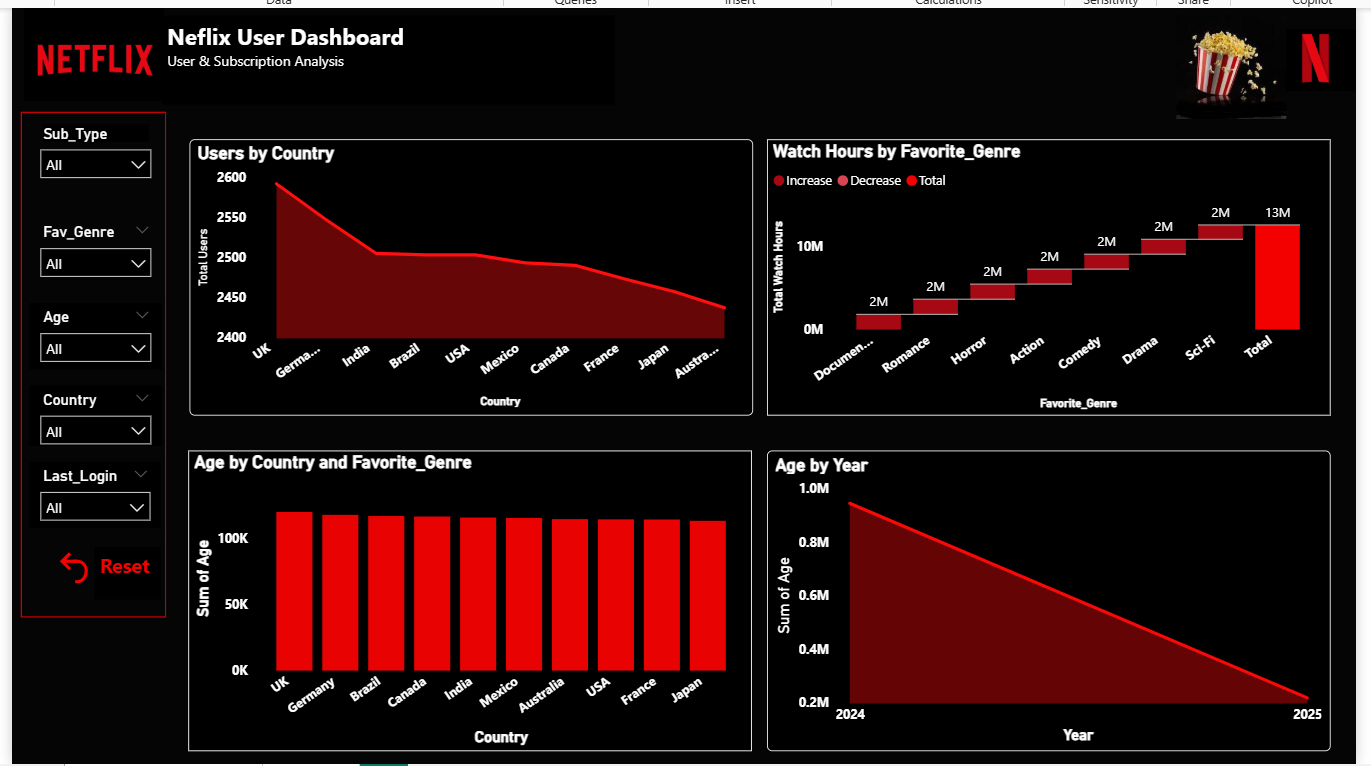

The dashboard page shown, as its layout file describes it:
{"tool":"powerbi","page":{"name":"Page 2","canvas":[1280,720],"ordinal":1},"visuals":[{"type":"waterfallChart","title":" Watch Hours by Favorite_Genre","fields":{"Y":["Subscription.Total Watch Hours"],"Category":["netflix_users.Favorite_Genre"]},"box":[719,124.9,536.5,263.5],"z":0},{"type":"stackedAreaChart","title":"Users by Country","fields":{"Category":["netflix_users.Country"],"Y":["Subscription.Total Users"]},"box":[168.8,124.9,536.5,263.5],"z":1000},{"type":"image","box":[2.7,0,150.9,89.2],"z":2000},{"type":"textbox","box":[142.7,6.9,430.9,85.1],"z":3000},{"type":"image","box":[1200.7,0,79.6,98.8],"z":4000},{"type":"image","box":[1104.6,6.9,112.5,98.8],"z":5000},{"type":"shape","box":[8.2,98.8,138.6,481.6],"z":6000},{"type":"actionButton","box":[39.8,513.2,100.2,39.8],"z":7000},{"type":"textbox","box":[78.2,513.2,63.1,50.8],"z":8000},{"type":"slicer","fields":{"Values":["Subscription.Subscription_Type"]},"box":[16.5,105.7,126.2,63.1],"z":9000},{"type":"slicer","fields":{"Values":["netflix_users.Favorite_Genre"]},"box":[16.5,200.3,126.2,63.1],"z":10000},{"type":"slicer","fields":{"Values":["netflix_users.Age"]},"box":[16.5,281.3,126.2,63.1],"z":11000},{"type":"slicer","fields":{"Values":["netflix_users.Country"]},"box":[16.5,359.5,126.2,57.6],"z":12000},{"type":"slicer","fields":{"Values":["netflix_users.Last_Login"]},"box":[16.5,432.2,124.9,63.1],"z":13000},{"type":"areaChart","title":" Age by Year","fields":{"Category":["netflix_users.Last_Login.Variation.Date Hierarchy.Year"],"Y":["Sum(netflix_users.Age)"]},"box":[719,421.3,536.5,286.8],"z":14000},{"type":"clusteredColumnChart","title":" Age by Country and Favorite_Genre","fields":{"Category":["netflix_users.Country"],"Y":["Sum(netflix_users.Age)"]},"box":[167.4,421.3,536.5,286.8],"z":15000}]}

Visuals, with their boxes on the page's 1280x720 design canvas (x1, y1, x2, y2). These are canvas units, not pixel positions in the 1371x766 screenshot, which may show the page scaled, cropped or inside an application window:
" Watch Hours by Favorite_Genre" waterfallChart: [719, 125, 1256, 388]
"Users by Country" stackedAreaChart: [169, 125, 705, 388]
image: [3, 0, 154, 89]
textbox: [143, 7, 574, 92]
image: [1201, 0, 1280, 99]
image: [1105, 7, 1217, 106]
shape: [8, 99, 147, 580]
actionButton: [40, 513, 140, 553]
textbox: [78, 513, 141, 564]
slicer - Subscription.Subscription_Type: [16, 106, 143, 169]
slicer - netflix_users.Favorite_Genre: [16, 200, 143, 263]
slicer - netflix_users.Age: [16, 281, 143, 344]
slicer - netflix_users.Country: [16, 360, 143, 417]
slicer - netflix_users.Last_Login: [16, 432, 141, 495]
" Age by Year" areaChart: [719, 421, 1256, 708]
" Age by Country and Favorite_Genre" clusteredColumnChart: [167, 421, 704, 708]
